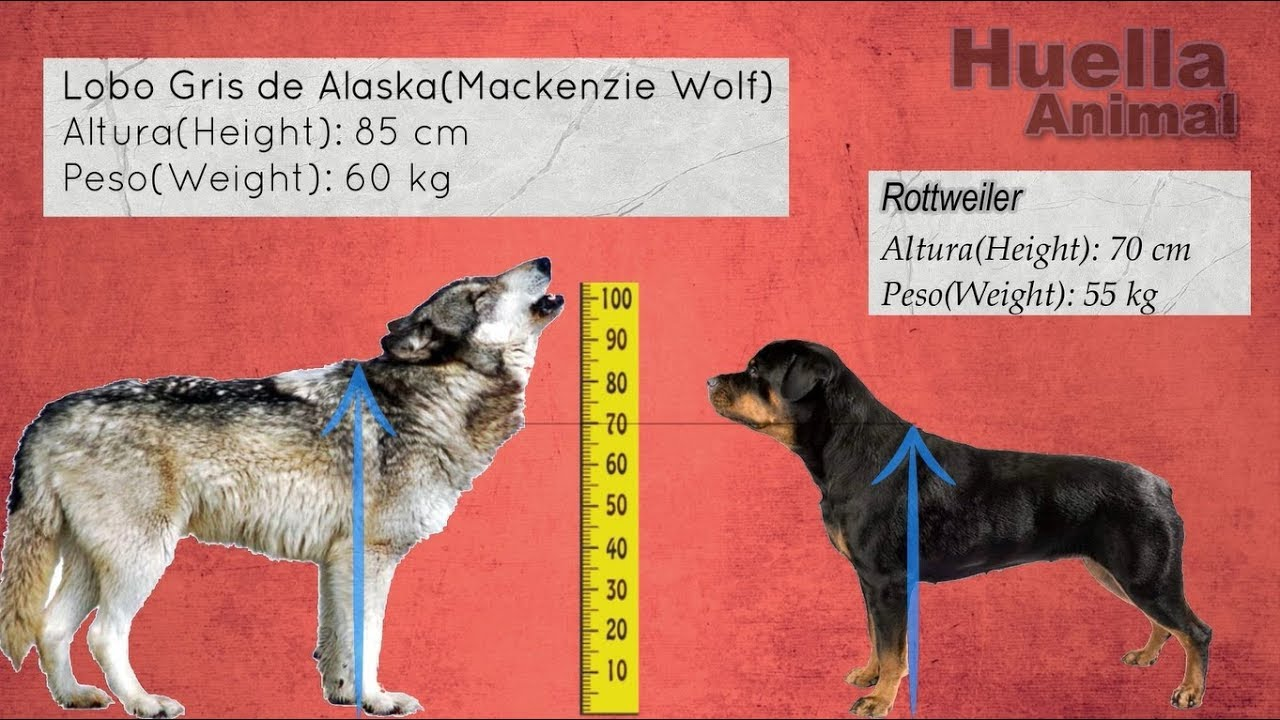Lobo: (10, 254, 580, 701)
